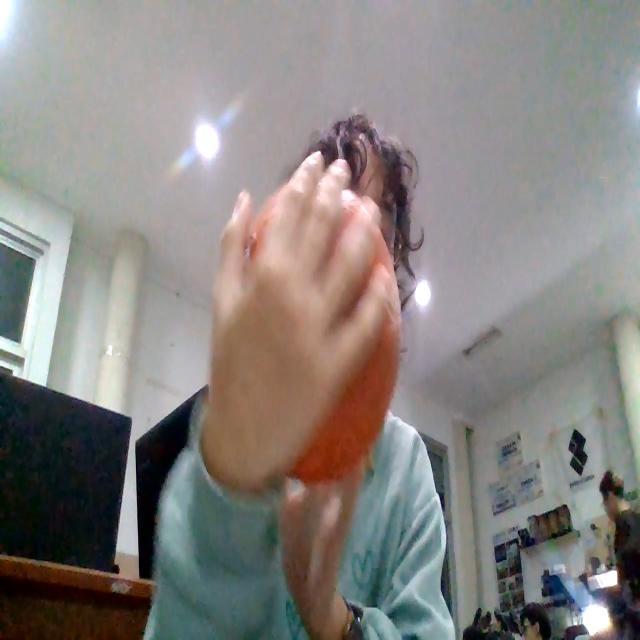ball: (256, 192, 401, 478)
